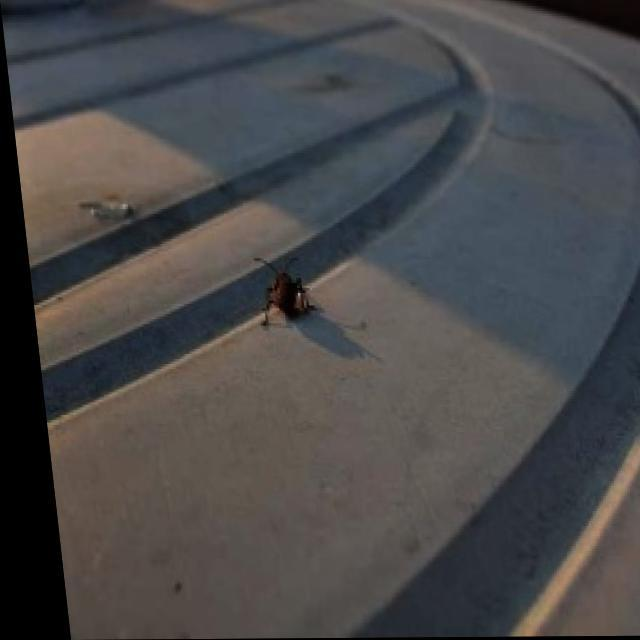cockroach: (248, 251, 320, 331)
